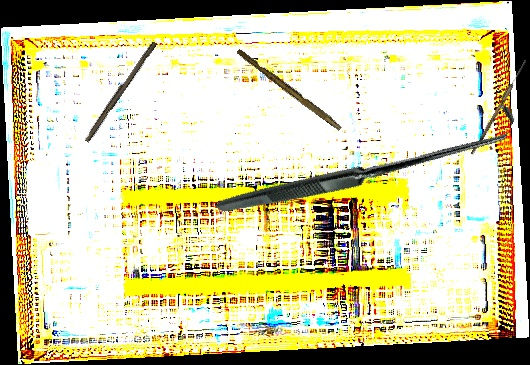Hook Surgical: (215, 11, 519, 309)
Scalpel Handle: (234, 47, 345, 132), (82, 39, 158, 144)
Surgical Spoon: (470, 59, 528, 156)
